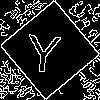Y: (25, 25, 63, 74)
